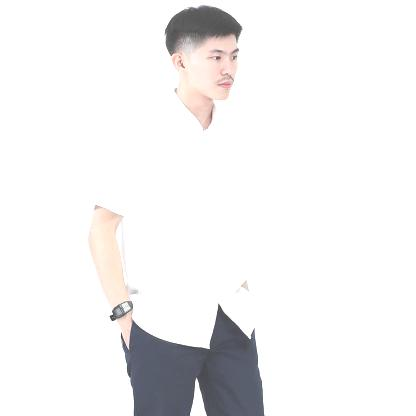dress: (92, 88, 257, 349)
